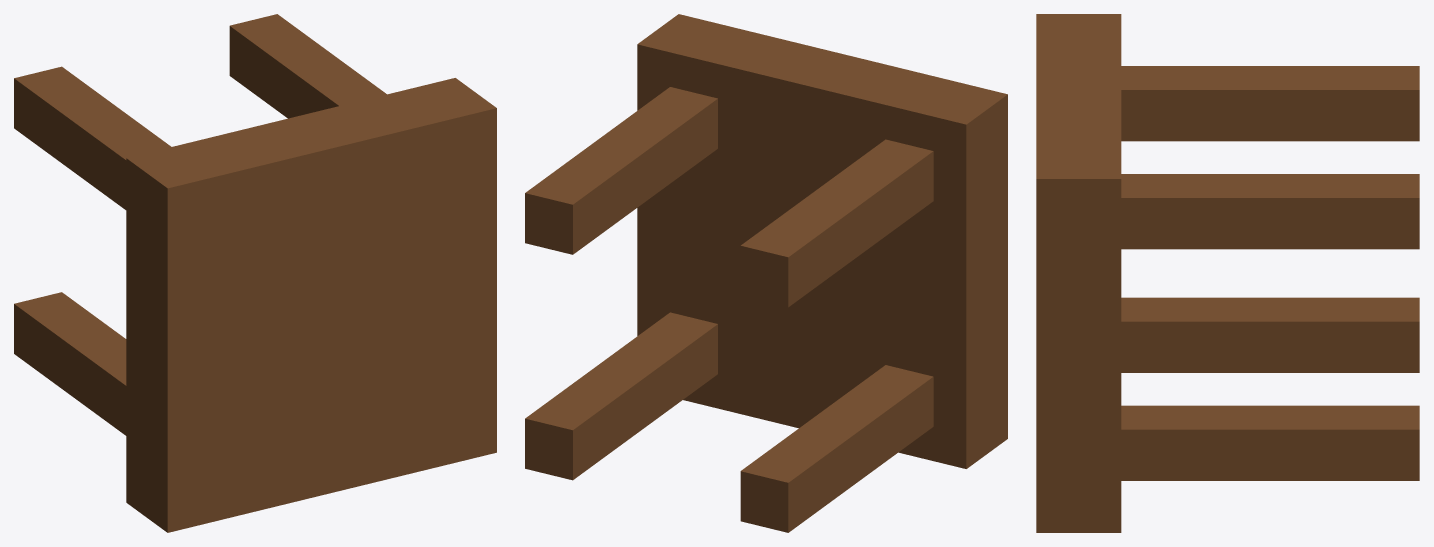
The model's file is SM_CommonStool.obj.
3 renders of one model, left to right at view 1: azimuth 30°, elevation 25°; view 2: azimuth 150°, elevation 25°; view 3: azimuth 270°, elevation 25°, orthographic. The views are drawn at different scales.
Parts seen in each view (by area): view 1: SM_CommonStool; view 2: SM_CommonStool; view 3: SM_CommonStool.
Boxes of the visible parts, x1,y1,x2,y2 form: SM_CommonStool: (14,14,496,532); SM_CommonStool: (525,14,1007,532); SM_CommonStool: (1036,14,1419,532).
Bounding box in the file's own units: 55 × 55 × 54.
